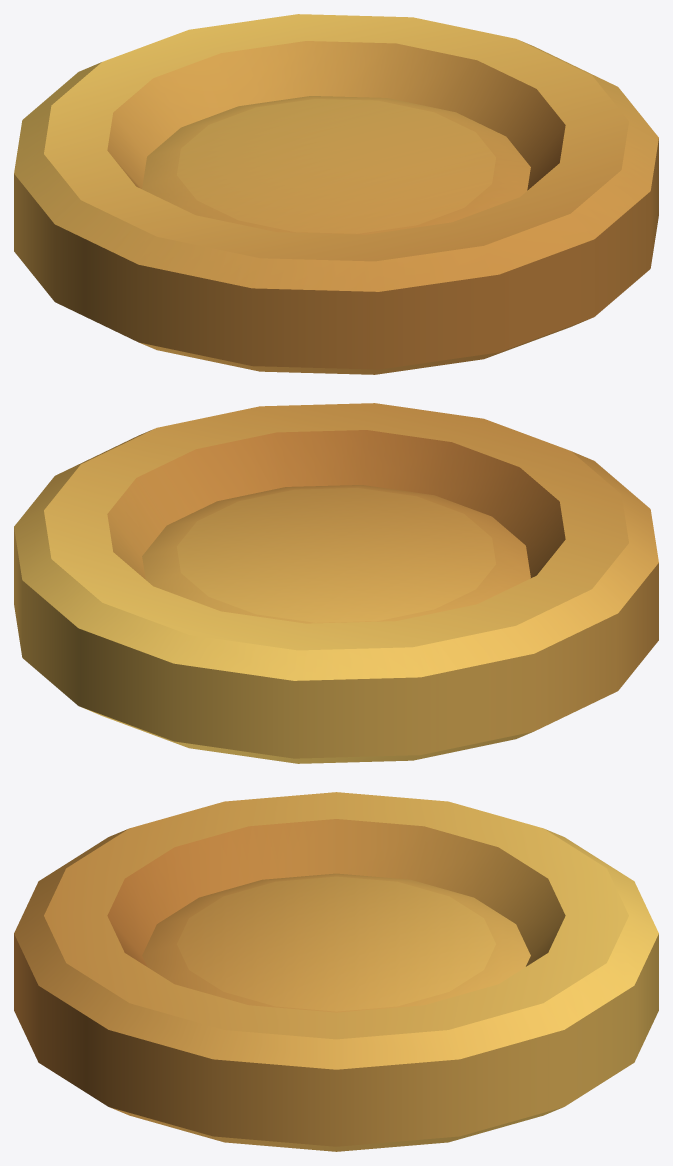
The model's file is coin-gold.glb.
The picture shows the model from 3 angles, top to bottom: view 1: azimuth 30°, elevation 25°; view 2: azimuth 150°, elevation 25°; view 3: azimuth 270°, elevation 25°; orthographic projection.
Parts seen in each view (by area): view 1: coin_gold; view 2: coin_gold; view 3: coin_gold.
Part boxes in pixels (left/top/right/bottom): coin_gold: left=14, top=14, right=658, bottom=374; coin_gold: left=14, top=403, right=658, bottom=763; coin_gold: left=14, top=792, right=658, bottom=1151.
Size of the model in its own units: 1.04 by 0.2 by 1.04.
1 material, 1 textured.
